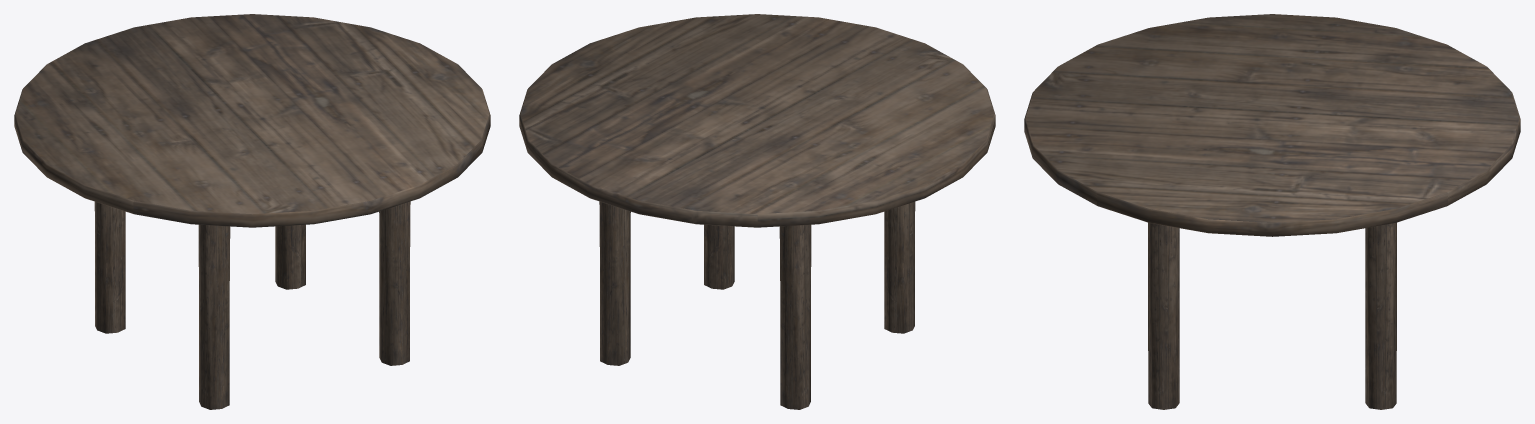
File: table_round_dark.glb
3 renders of one model, left to right at view 1: azimuth 30°, elevation 25°; view 2: azimuth 150°, elevation 25°; view 3: azimuth 270°, elevation 25°, orthographic. The views are drawn at different scales.
Parts seen in each view (by area): view 1: Table - Round_Wood Planks_0; view 2: Table - Round_Wood Planks_0; view 3: Table - Round_Wood Planks_0.
Part boxes in pixels (bbox=[...]): Table - Round_Wood Planks_0: bbox=[14, 14, 490, 409]; Table - Round_Wood Planks_0: bbox=[519, 14, 995, 409]; Table - Round_Wood Planks_0: bbox=[1024, 14, 1520, 409].
Bounding box in the file's own units: 0.4964 × 0.2637 × 0.4964.
1 material, 1 textured.
